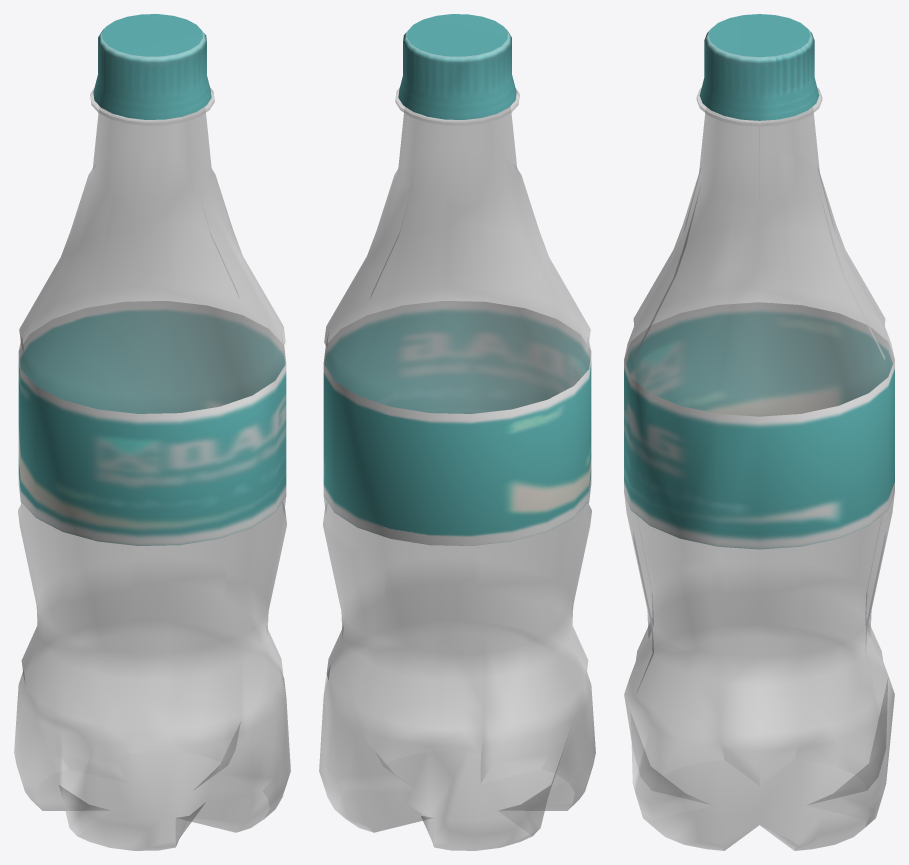
The model's file is petbottle_500ml_empty_c02.fbx.
3 views of the same model, side by side, from view 1: azimuth 30°, elevation 25°; view 2: azimuth 150°, elevation 25°; view 3: azimuth 270°, elevation 25° (orthographic).
Parts seen in each view (by area): view 1: petbottle_500ml_empty_c02; view 2: petbottle_500ml_empty_c02; view 3: petbottle_500ml_empty_c02.
Boxes of the visible parts, <box> form: petbottle_500ml_empty_c02: <box>14,14,290,850</box>; petbottle_500ml_empty_c02: <box>319,14,595,850</box>; petbottle_500ml_empty_c02: <box>624,14,894,850</box>.
Size of the model in its own units: 7.11 by 22.31 by 7.11.
3 materials, 2 textured.
